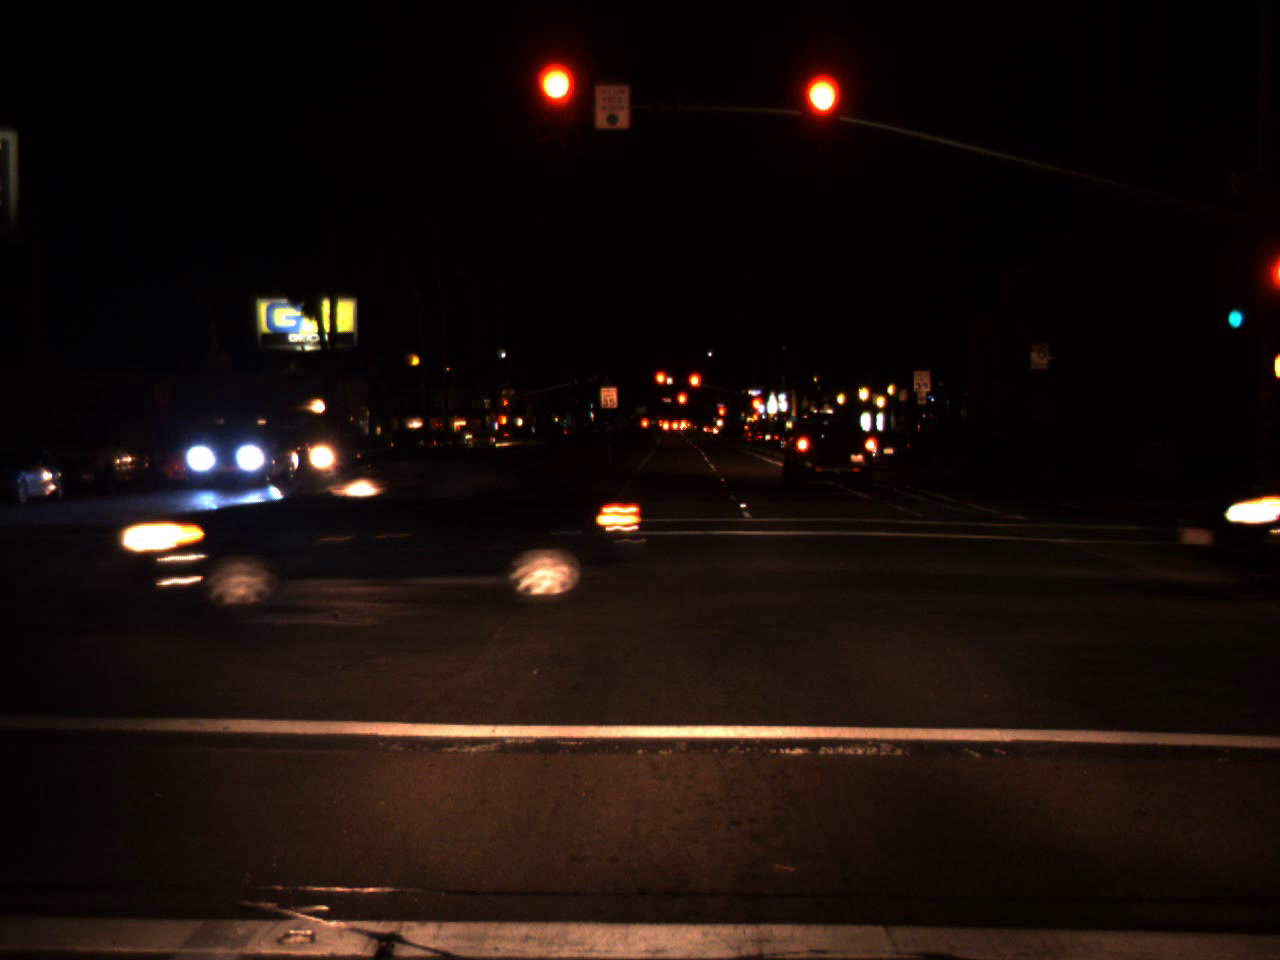stop: (537, 64, 577, 142), (802, 75, 841, 153), (686, 371, 702, 403), (653, 369, 668, 401), (675, 391, 688, 418), (717, 403, 727, 430), (751, 397, 761, 424), (503, 398, 509, 414)
